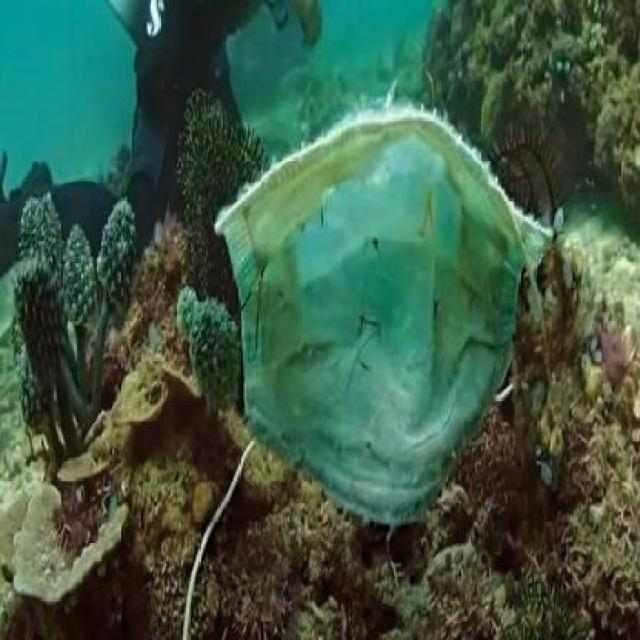Mask: (210, 99, 558, 543)
